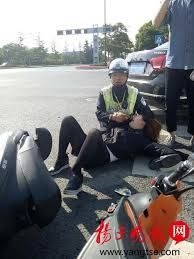falling: (40, 106, 175, 187)
